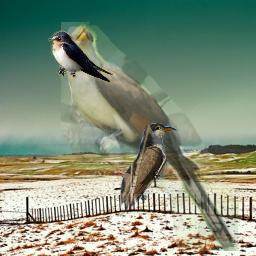Cuckoo: (61, 22, 239, 251), (120, 123, 190, 211)
Swallow: (48, 30, 113, 84)
